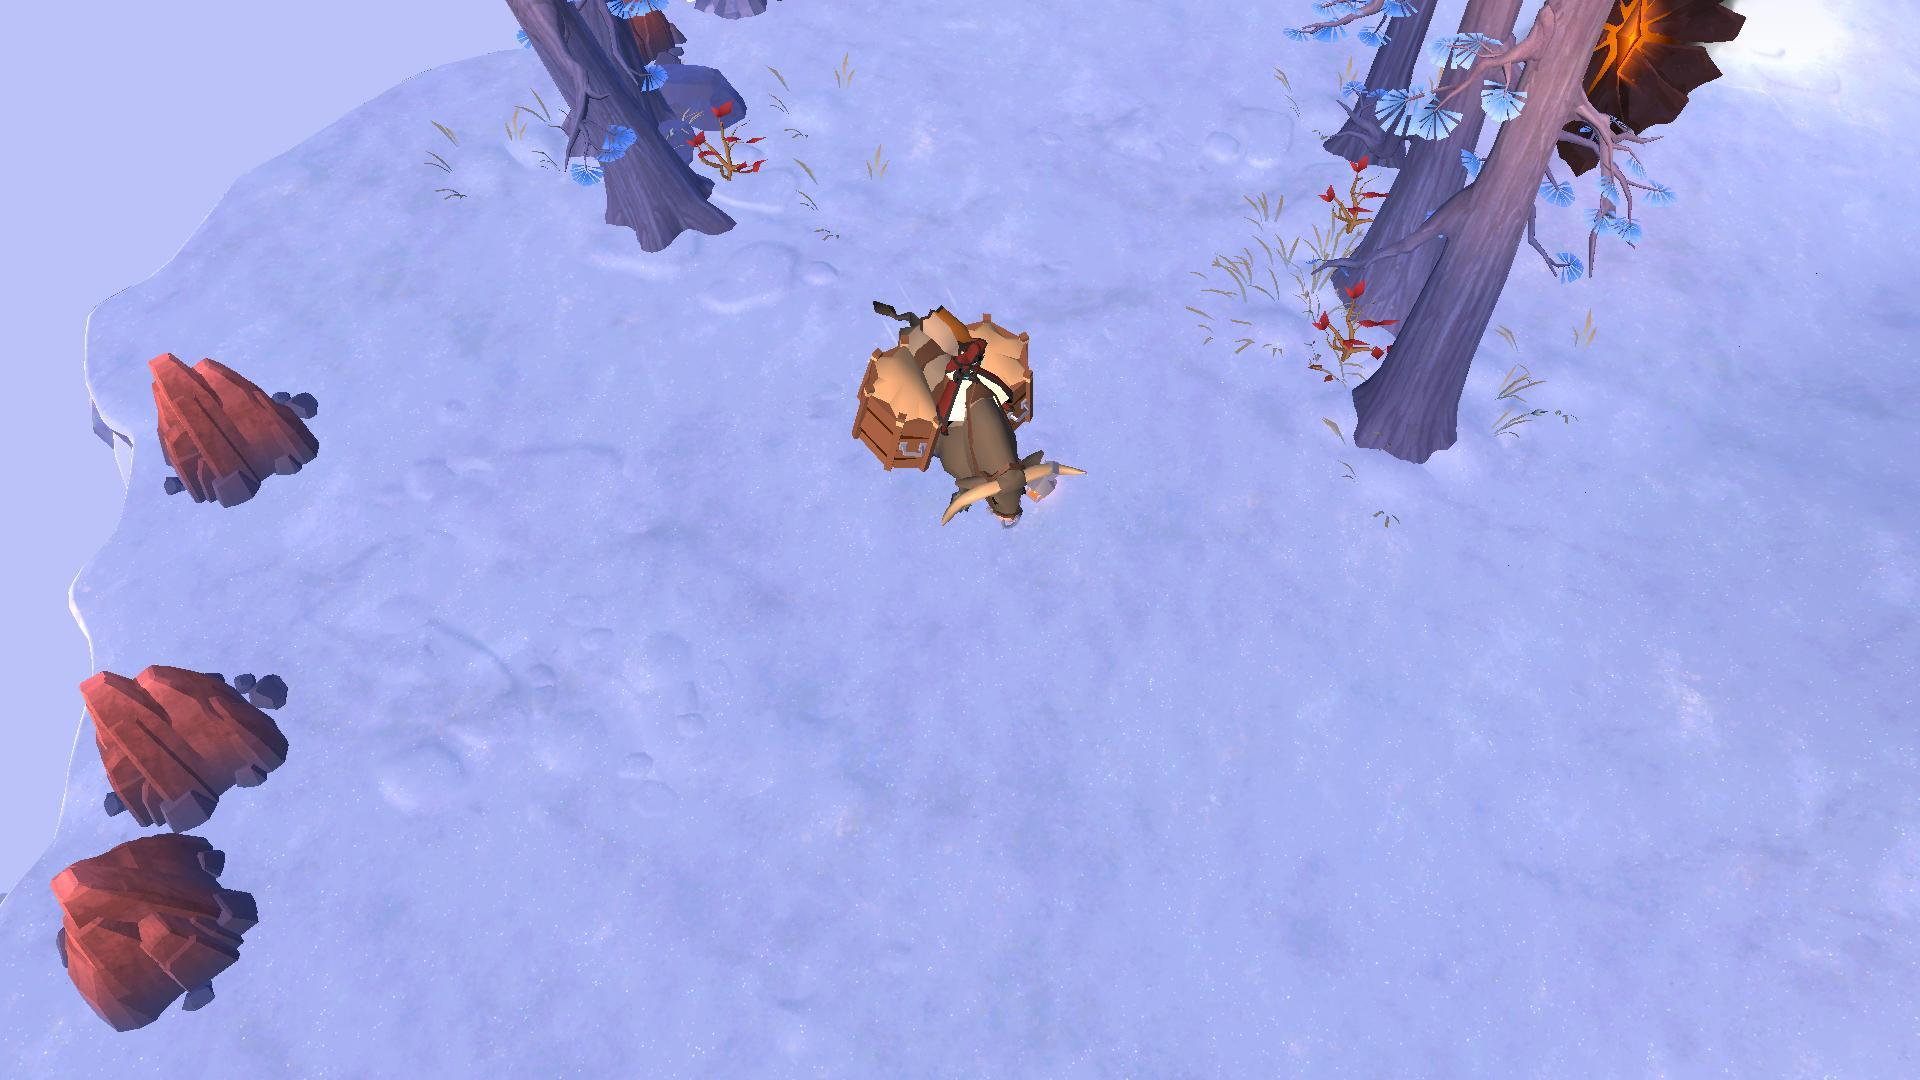rock_t5: (44, 835, 249, 1039), (88, 661, 299, 824), (132, 355, 331, 491)
